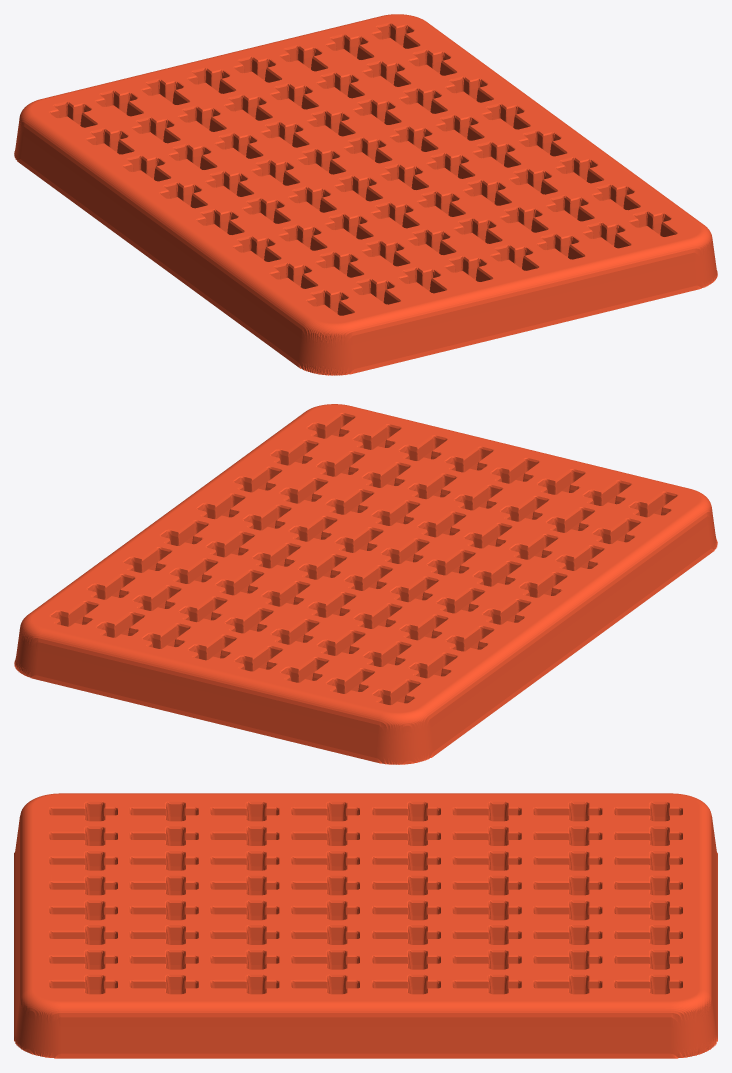
File: mold.glb
3 views of the same model, one above another, from view 1: azimuth 30°, elevation 25°; view 2: azimuth 150°, elevation 25°; view 3: azimuth 270°, elevation 25° (orthographic). The views are drawn at different scales.
Parts seen in each view (by area): view 1: geometry_0; view 2: geometry_0; view 3: geometry_0.
Part boxes in pixels (x1,y1,x2,y2): geometry_0: (14, 14, 717, 375); geometry_0: (14, 404, 717, 764); geometry_0: (14, 793, 717, 1058).
Bounding box in the file's own units: 0.1013 × 0.0105 × 0.1355.
